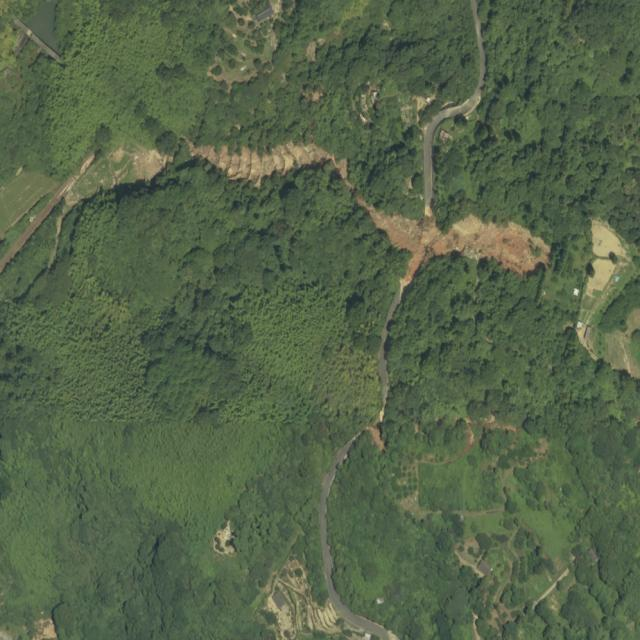landslide: (357, 196, 551, 286), (431, 215, 551, 274)
